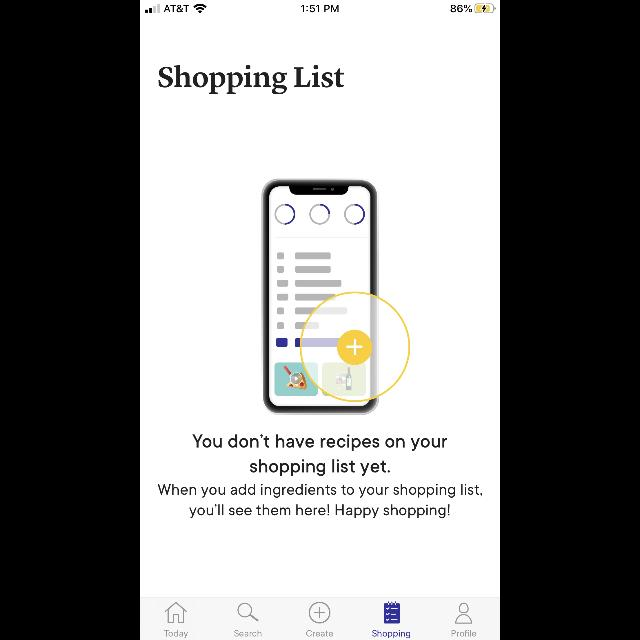icon: (309, 602, 331, 624), (165, 601, 187, 623), (238, 603, 258, 621), (456, 602, 472, 624), (384, 601, 400, 623)
image: (262, 179, 410, 415)
text: (158, 484, 482, 518), (192, 434, 448, 476), (159, 66, 345, 94), (372, 630, 410, 638), (164, 630, 188, 638), (234, 630, 262, 636), (306, 630, 334, 636), (452, 630, 476, 636)
uppertaskbar: (140, 0, 500, 14)
